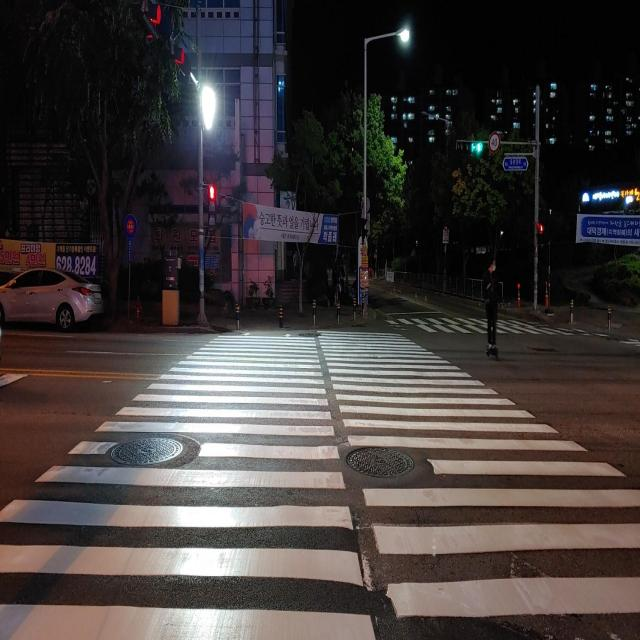빨간불: (207, 183, 218, 226)
횡단보도: (0, 320, 640, 640), (404, 310, 629, 332)
